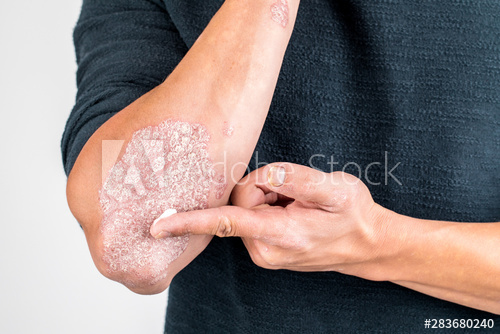Eczema: (116, 113, 216, 274)
